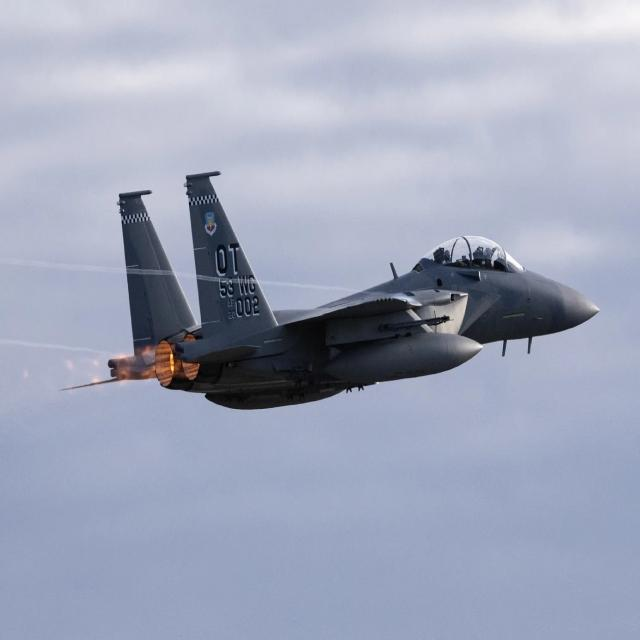F15: (59, 135, 619, 448)
